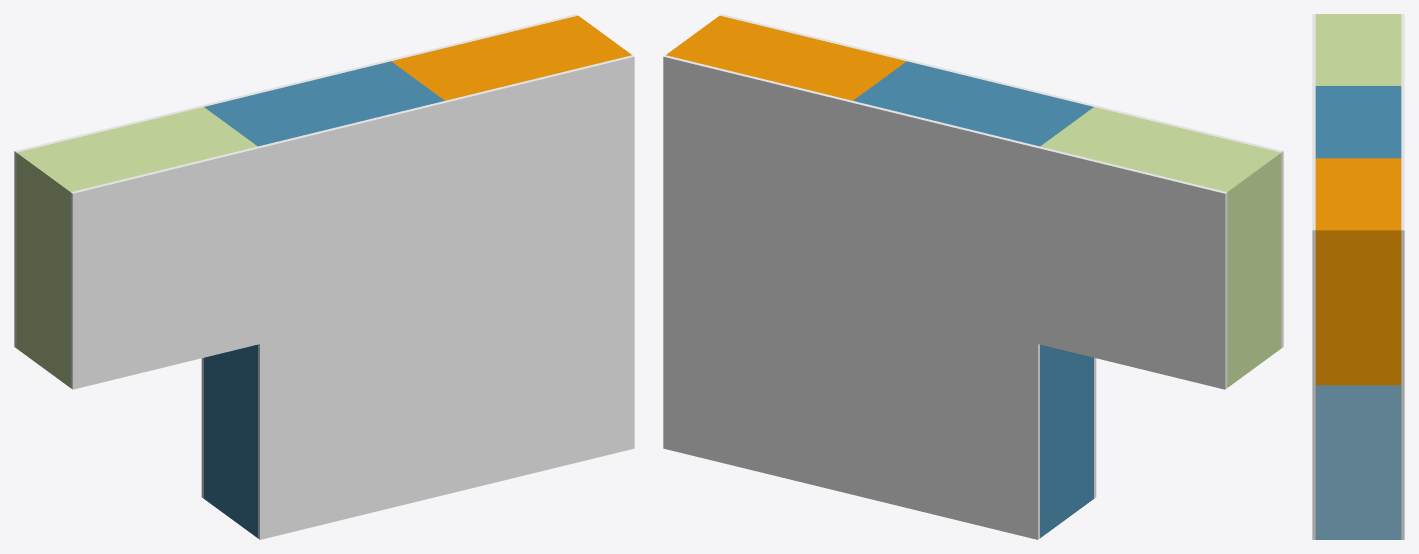
File: Room_1.glb
The picture shows the model from 3 angles, left to right: view 1: azimuth 30°, elevation 25°; view 2: azimuth 150°, elevation 25°; view 3: azimuth 270°, elevation 25°; orthographic projection. The views are drawn at different scales.
Parts seen in each view (by area): view 1: Room_2_Roof, Room_4_Roof, Room_3_Roof, Room_1_Roof, Room_4_Walls, Room_2_Walls, Room_3_Walls, Room_4_Floor, Room_2_Floor; view 2: Room_2_Floor, Room_4_Floor, Room_3_Floor, Room_1_Floor, Room_4_Walls, Room_2_Walls, Room_3_Walls, Room_4_Roof, Room_2_Roof; view 3: Room_3_Walls, Room_1_Wall, Room_2_Walls, Room_4_Walls, Room_3_Roof, Room_3_Floor, Room_1_Floor, Room_1_Roof, Room_2_Floor, Room_2_Roof, Room_4_Floor, Room_4_Roof.
Part boxes in pixels (x1,y1,x2,y2): Room_2_Roof: (258,101,447,539); Room_4_Roof: (70,146,259,389); Room_3_Roof: (445,55,634,298); Room_1_Roof: (447,252,634,494); Room_4_Walls: (16,107,257,387); Room_2_Walls: (204,61,444,537); Room_3_Walls: (391,15,631,100); Room_4_Floor: (14,105,203,348); Room_2_Floor: (201,59,390,498); Room_2_Floor: (850,101,1039,539); Room_4_Floor: (1038,146,1227,389); Room_3_Floor: (663,55,852,298); Room_1_Floor: (663,252,850,494); Room_4_Walls: (1040,107,1281,387); Room_2_Walls: (853,61,1093,537); Room_3_Walls: (666,15,906,100); Room_4_Roof: (1094,105,1283,348); Room_2_Roof: (907,59,1096,498); Room_3_Walls: (1315,158,1401,385); Room_1_Wall: (1315,385,1401,539); Room_2_Walls: (1315,86,1401,158); Room_4_Walls: (1315,14,1401,85); Room_3_Roof: (1312,158,1315,385); Room_3_Floor: (1401,158,1404,385); Room_1_Floor: (1401,385,1404,539); Room_1_Roof: (1312,385,1315,539); Room_2_Floor: (1401,86,1404,158); Room_2_Roof: (1312,86,1315,158); Room_4_Floor: (1401,14,1404,85); Room_4_Roof: (1312,14,1315,85).
Size of what is drawn, in the model's own units: 15 by 10 by 2.7.
Materials: 8 (4 with a texture image).
